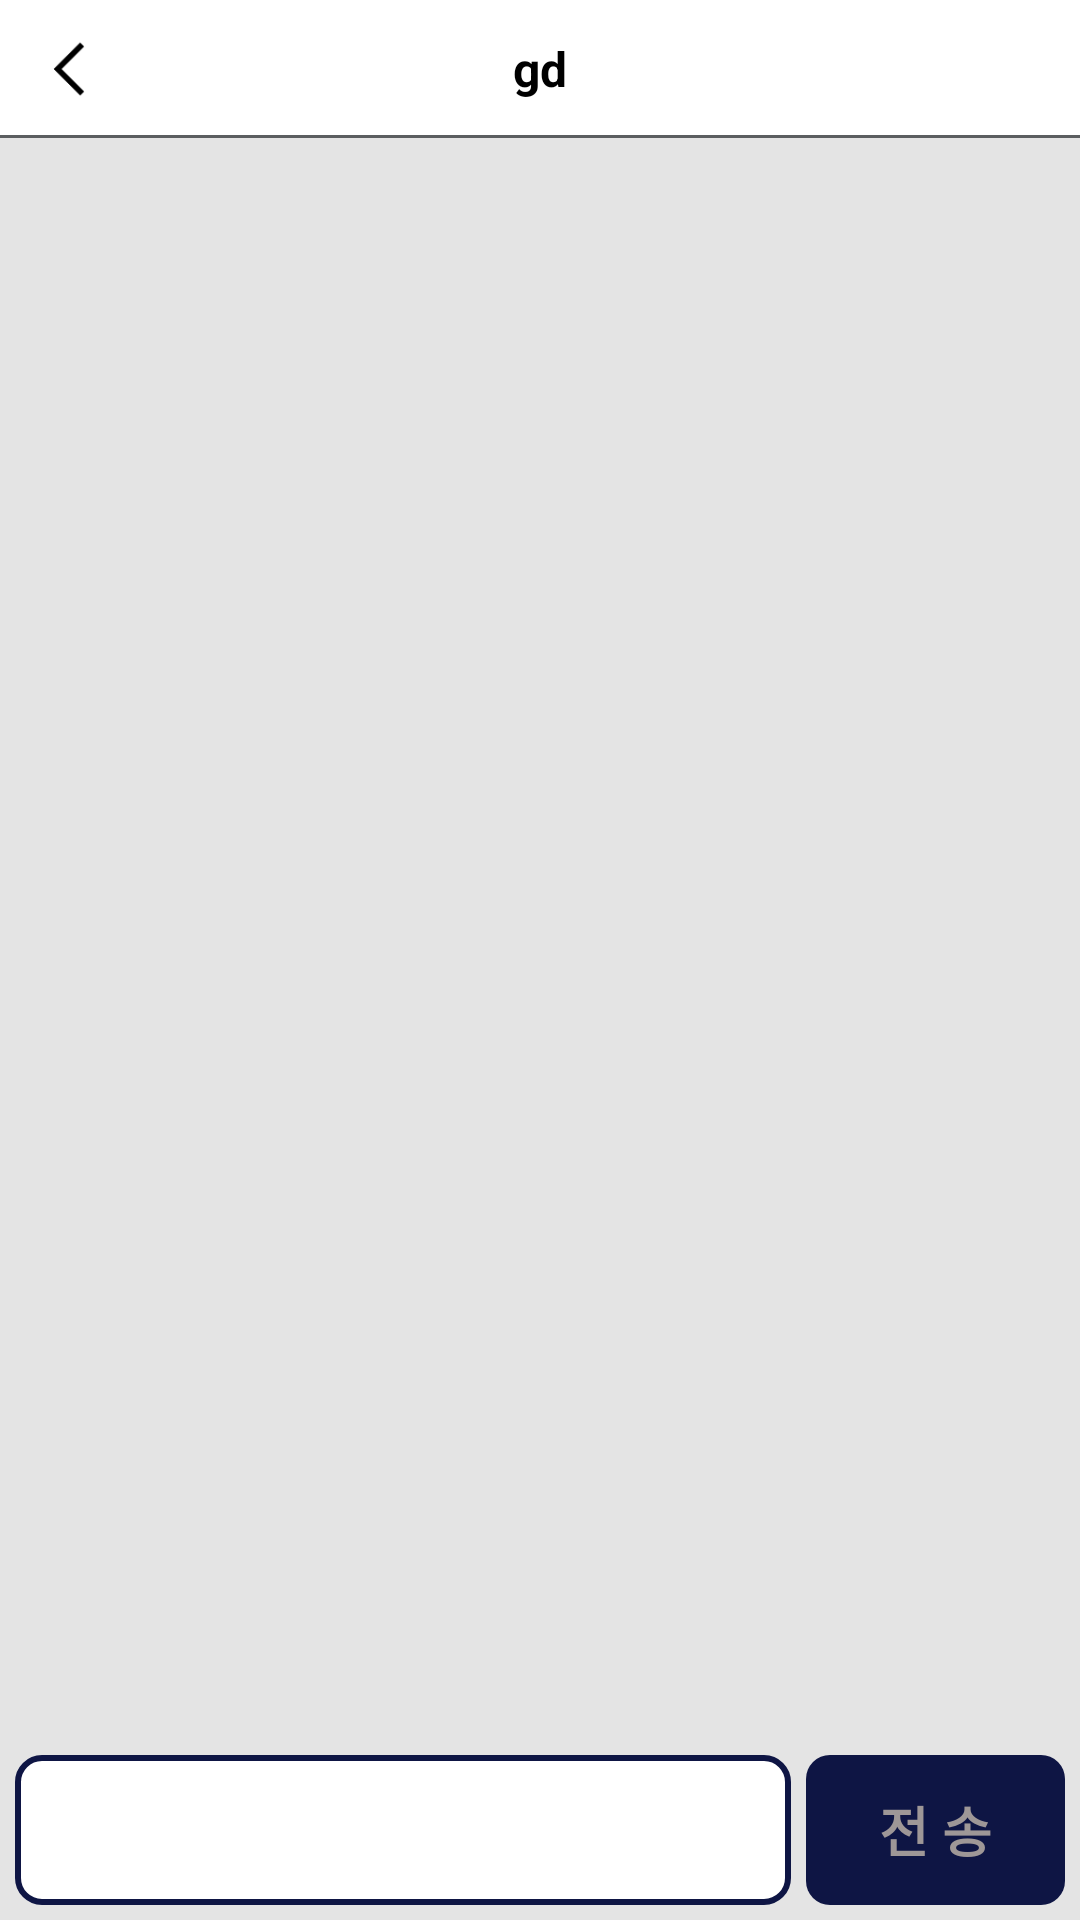

Icon bounding boxes for this 1080w x 1920h phone screenshot, format {"x1": x1, "y1": y1, "x2": x2, "y2": y2}:
go to back: {"x1": 54, "y1": 42, "x2": 84, "y2": 96}
